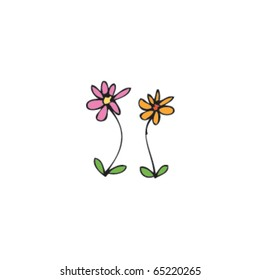flower: (81, 79, 134, 179), (136, 88, 176, 179)
